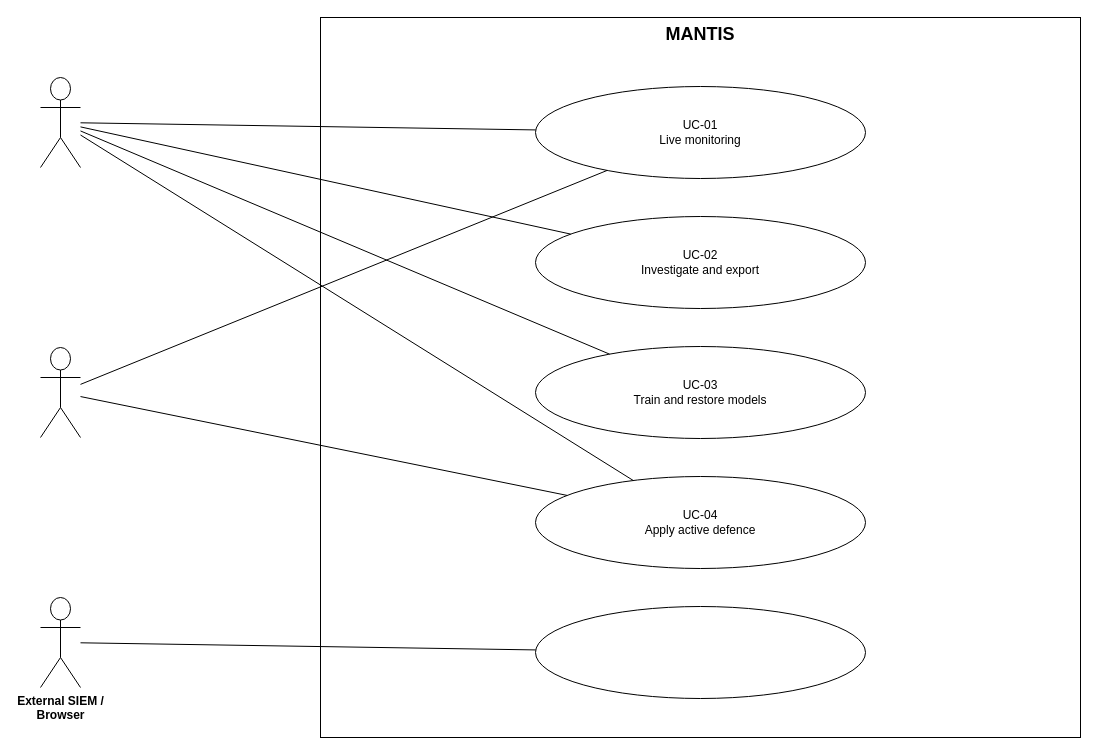
This 1098x755 diagram has some shape labels left out. Here are the shapes that lost their labels. From the top down, the centre of each, then its label:
At (x=60, y=122): "Security Administrator".
At (x=60, y=392): "Host Operating System".
At (x=700, y=652): "Receive telemetry and view alerts".
